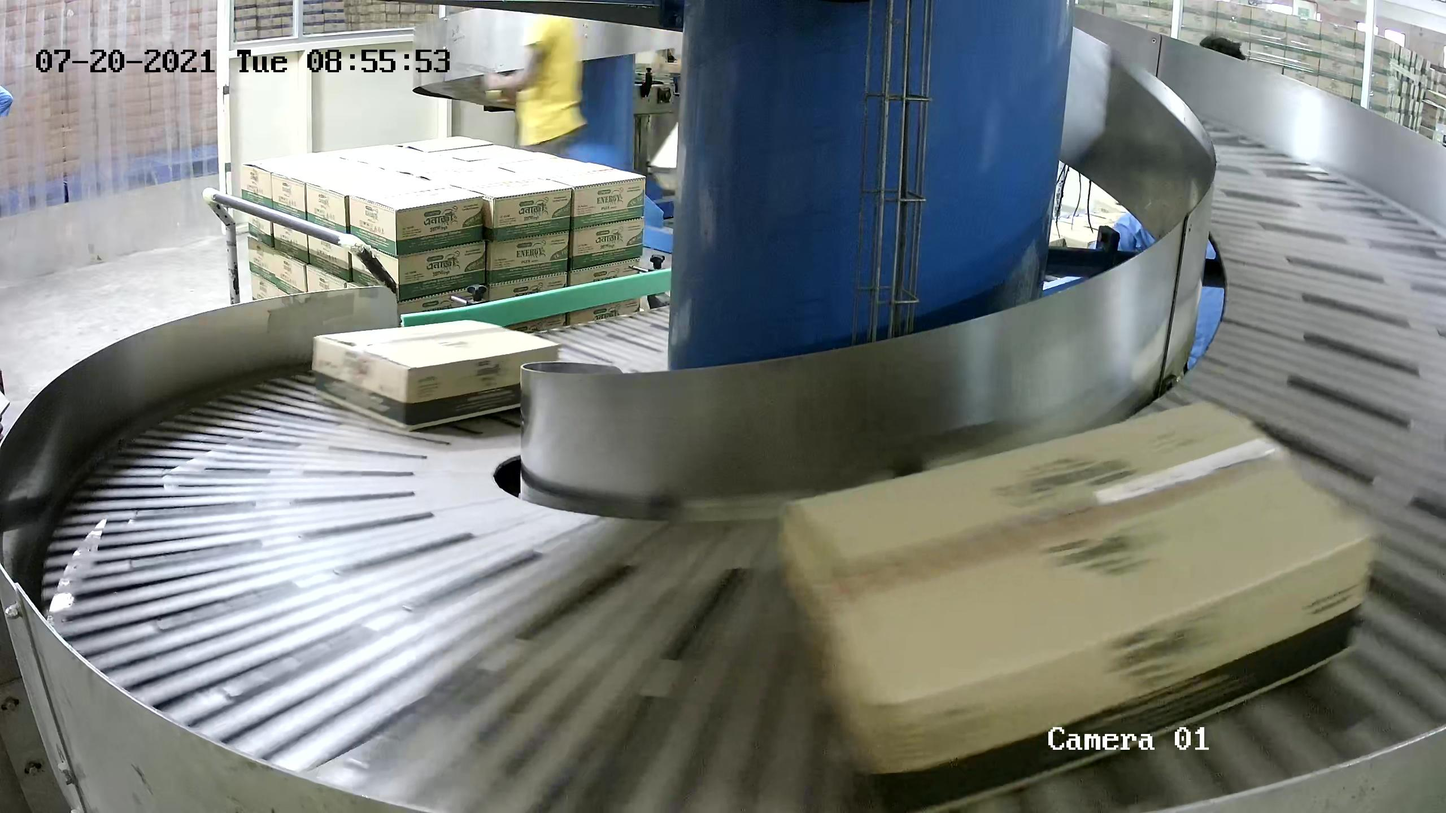Box: (772, 399, 1369, 813), (312, 318, 561, 434)
